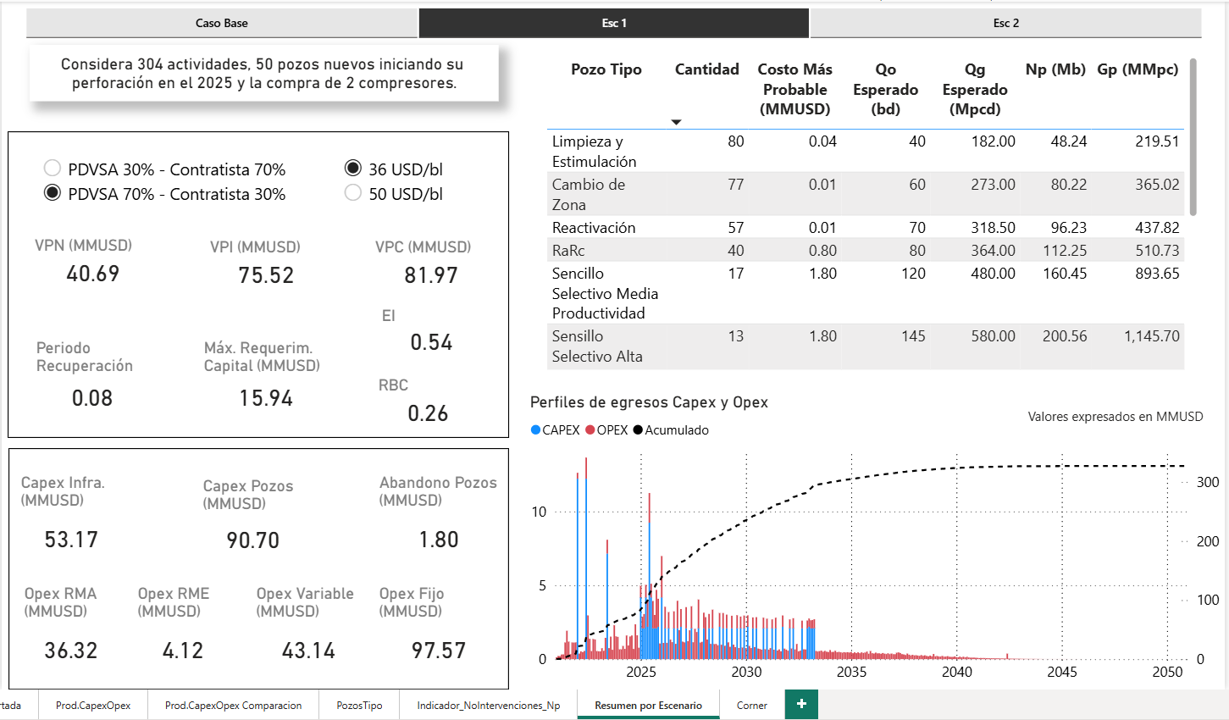

Layout of this report page (visuals, bound fields, positions):
{"tool":"powerbi","page":{"name":"Resumen por Escenario","canvas":[1280,720],"ordinal":5},"visuals":[{"type":"basicShape","box":[7.2,467,524.5,252.6],"z":0},{"type":"basicShape","box":[6.6,135.8,524.9,321.2],"z":1000},{"type":"slicer","fields":{"Values":["DescEscenarios.Escenario"]},"box":[0,0,1280,45.4],"z":2000},{"type":"lineStackedColumnComboChart","title":"Perfiles de egresos Capex y Opex","fields":{"Y":["Sum(PBI MPP.Diario)"],"Series":["PBI MPP.Concepto 2"],"Y2":["Sum(PBI MPP.Acumulado)"],"Category":["PBI MPP.Año"]},"box":[548.1,409,731.9,313],"z":3000},{"type":"textbox","box":[1069.7,420.6,210.3,34.8],"z":4000},{"type":"tableEx","fields":{"Values":["Pozos (2).Pozo Tipo","Sum(Pozos (2).Cantidad)","Sum(Pozos (2).Costo Más Probable (MMUSD))","Sum(Pozos (2).Qo Esperado (bd))","Sum(Pozos (2).Qg Esperado (Mpcd))","Sum(Pozos (2).Np (Mb))","Sum(Pozos (2).Gp (MMpc))"]},"box":[564.7,53.4,691.6,336.9],"z":5000},{"type":"card","fields":{"Values":["Min(DescEscenarios.Descripcion)"]},"box":[29.7,45.1,491.1,59.3],"z":6000},{"type":"slicer","fields":{"Values":["PBI 3.Activo "]},"box":[31.5,155.7,291.4,76.2],"z":7000},{"type":"slicer","fields":{"Values":["PBI 3.Agrupación"]},"box":[346.1,155.7,160.6,76.2],"z":8000},{"type":"card","title":"VPN (MMUSD)","fields":{"Values":["Sum(PBI 3.Media)"]},"box":[29.4,244.8,132.5,58],"z":9000},{"type":"card","title":"VPC (MMUSD)","fields":{"Values":["Sum(PBI 3.Media)"]},"box":[385.9,246.4,127.5,58],"z":10000},{"type":"card","title":"VPI (MMUSD)","fields":{"Values":["Sum(PBI 3.Media)"]},"box":[212.8,246.4,127.5,58],"z":11000},{"type":"card","title":"RBC","fields":{"Values":["Sum(PBI 3.Media)"]},"box":[389.1,390.8,114.3,58],"z":12000},{"type":"card","title":"Periodo Recuperación","fields":{"Values":["Sum(PBI 3.Media)"]},"box":[31,351.7,127.5,86.1],"z":13000},{"type":"card","title":"Máx. Requerim. Capital (MMUSD)","fields":{"Values":["Sum(PBI 3.Media)"]},"box":[207,351.7,139.1,86.1],"z":14000},{"type":"card","title":"EI","fields":{"Values":["Sum(PBI 3.Media)"]},"box":[392.4,317.9,114.3,54.6],"z":15000},{"type":"card","title":"Capex Infra. (MMUSD)","fields":{"Values":["Sum(PBI MPP.Diario)"]},"box":[14.9,493.1,114.3,99.4],"z":16000},{"type":"card","title":"Capex Pozos (MMUSD)","fields":{"Values":["Sum(PBI MPP.Diario)"]},"box":[205.3,496.8,114.3,94.4],"z":17000},{"type":"card","title":"Opex Variable (MMUSD)","fields":{"Values":["Sum(PBI MPP.Diario)"]},"box":[261.6,609.4,119.2,99.4],"z":18000},{"type":"card","title":"Opex RME (MMUSD)","fields":{"Values":["Sum(PBI MPP.Diario)"]},"box":[137.4,609.4,104.3,99.4],"z":19000},{"type":"card","title":"Opex RMA (MMUSD)","fields":{"Values":["Sum(PBI MPP.Diario)"]},"box":[18.2,609.4,107.6,99.4],"z":20000},{"type":"card","title":"Opex Fijo (MMUSD)","fields":{"Values":["Sum(PBI MPP.Diario)"]},"box":[389.9,609.4,134.1,99.4],"z":21000},{"type":"card","title":"Abandono Pozos (MMUSD)","fields":{"Values":["Sum(PBI MPP.Diario)"]},"box":[389.9,493.1,134.1,99.4],"z":22000}]}

Visuals, with their boxes on the page's 1280x720 design canvas (x1, y1, x2, y2). These are canvas units, not pixel positions in the 1229x720 screenshot, which may show the page scaled, cropped or inside an application window:
basicShape: [x1=7, y1=467, x2=532, y2=720]
basicShape: [x1=7, y1=136, x2=532, y2=457]
slicer - DescEscenarios.Escenario: [x1=0, y1=0, x2=1280, y2=45]
"Perfiles de egresos Capex y Opex" lineStackedColumnComboChart: [x1=548, y1=409, x2=1280, y2=722]
textbox: [x1=1070, y1=421, x2=1280, y2=455]
tableEx - Pozos (2).Pozo Tipo x Sum(Pozos (2).Cantidad): [x1=565, y1=53, x2=1256, y2=390]
card - Min(DescEscenarios.Descripcion): [x1=30, y1=45, x2=521, y2=104]
slicer - PBI 3.Activo : [x1=32, y1=156, x2=323, y2=232]
slicer - PBI 3.Agrupación: [x1=346, y1=156, x2=507, y2=232]
"VPN (MMUSD)" card: [x1=29, y1=245, x2=162, y2=303]
"VPC (MMUSD)" card: [x1=386, y1=246, x2=513, y2=304]
"VPI (MMUSD)" card: [x1=213, y1=246, x2=340, y2=304]
"RBC" card: [x1=389, y1=391, x2=503, y2=449]
"Periodo Recuperación" card: [x1=31, y1=352, x2=158, y2=438]
"Máx. Requerim. Capital (MMUSD)" card: [x1=207, y1=352, x2=346, y2=438]
"EI" card: [x1=392, y1=318, x2=507, y2=372]
"Capex Infra. (MMUSD)" card: [x1=15, y1=493, x2=129, y2=592]
"Capex Pozos (MMUSD)" card: [x1=205, y1=497, x2=320, y2=591]
"Opex Variable (MMUSD)" card: [x1=262, y1=609, x2=381, y2=709]
"Opex RME (MMUSD)" card: [x1=137, y1=609, x2=242, y2=709]
"Opex RMA (MMUSD)" card: [x1=18, y1=609, x2=126, y2=709]
"Opex Fijo (MMUSD)" card: [x1=390, y1=609, x2=524, y2=709]
"Abandono Pozos (MMUSD)" card: [x1=390, y1=493, x2=524, y2=592]
